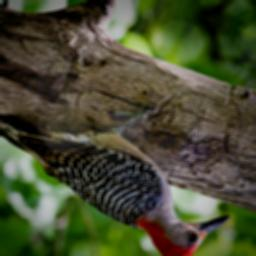Woodpecker: (0, 36, 256, 256)
